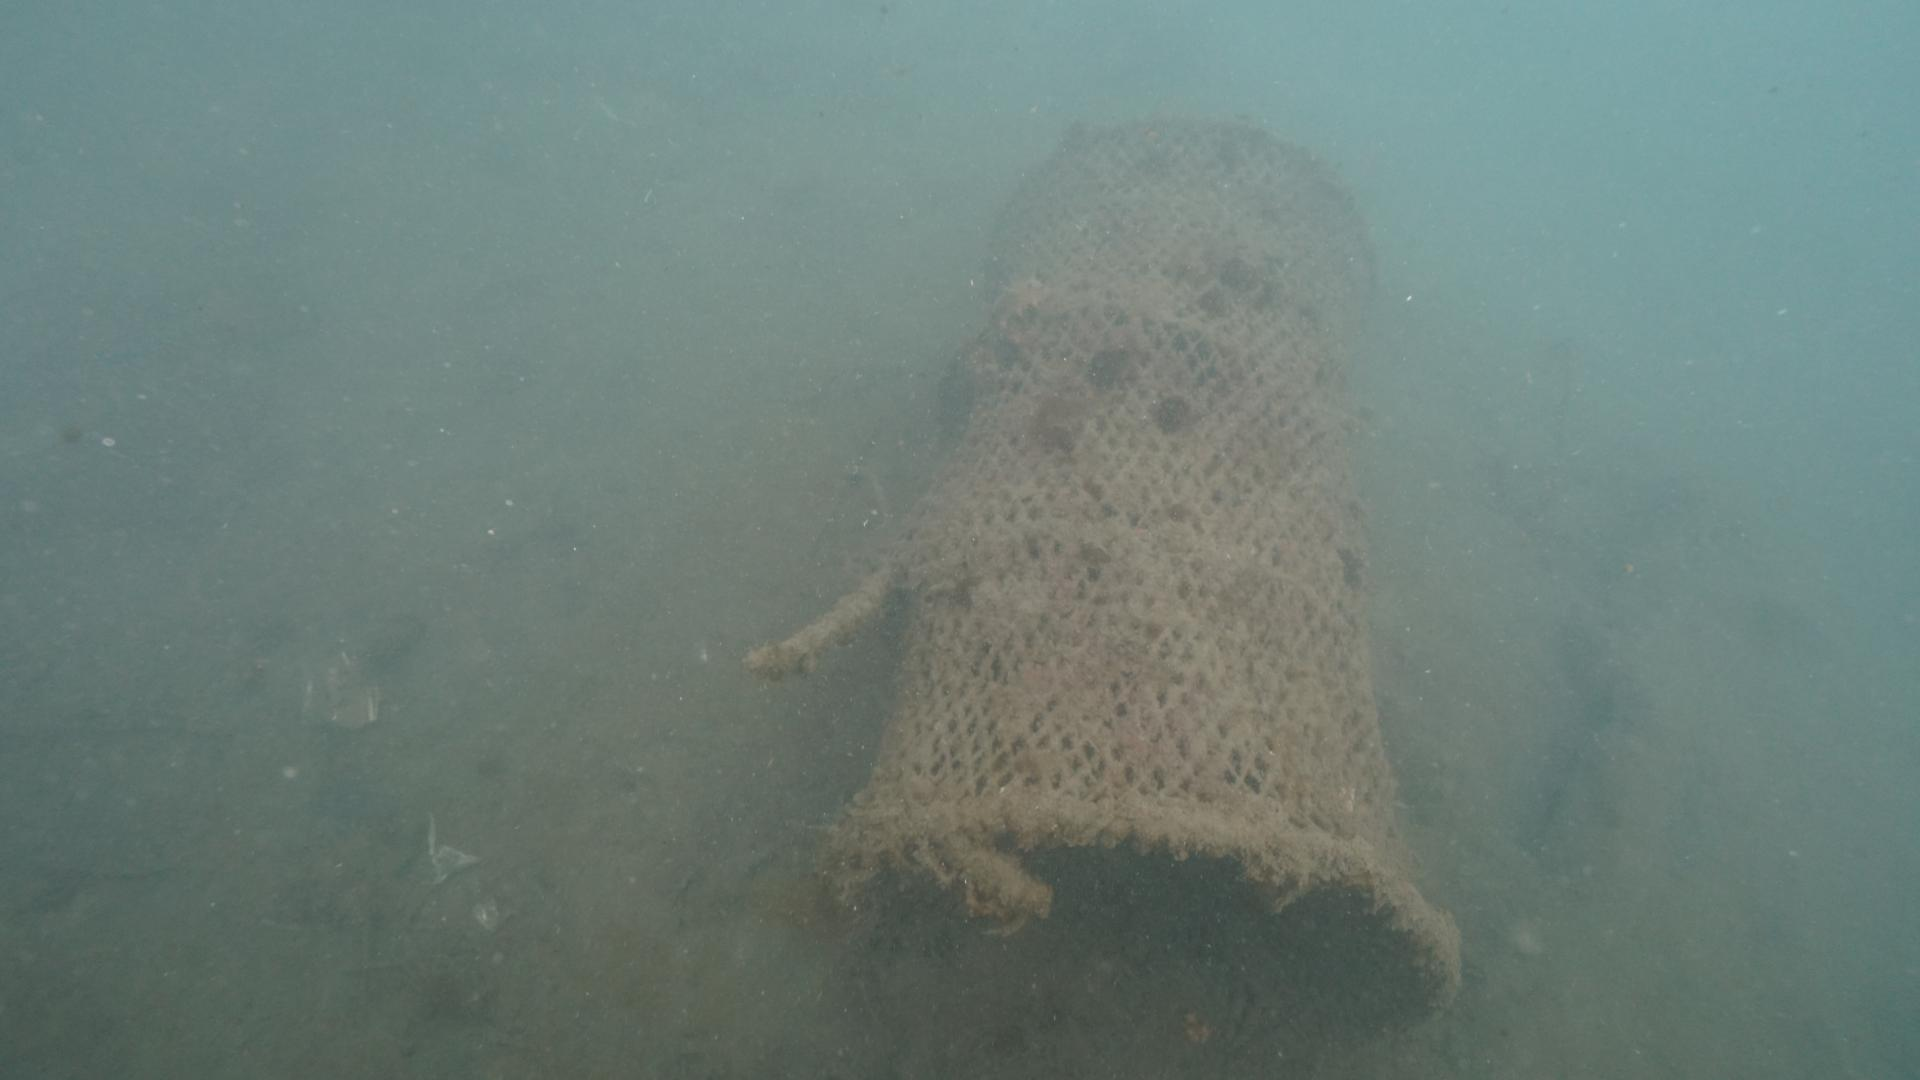spring fish trap: (807, 112, 1462, 1073)
